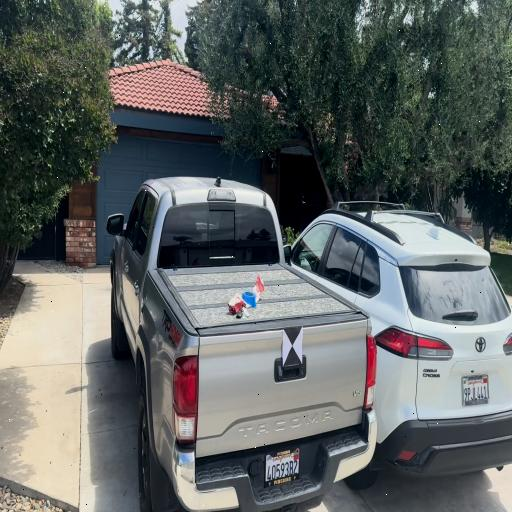target: (282, 326, 303, 366)
